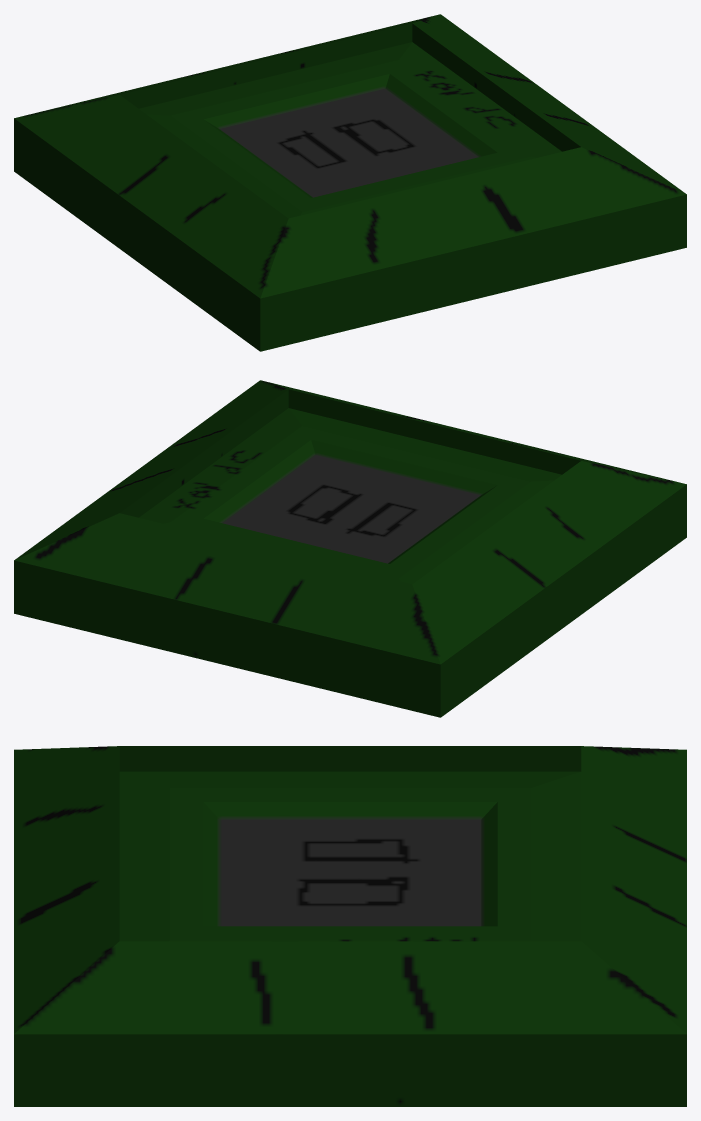
The model's file is Udoor.obj.
3 renders of one model, top to bottom at view 1: azimuth 30°, elevation 25°; view 2: azimuth 150°, elevation 25°; view 3: azimuth 270°, elevation 25°, orthographic. The views are drawn at different scales.
Visible parts, largest first — view 1: Cube; view 2: Cube; view 3: Cube.
Boxes of the visible parts, x1,y1,x2,y2 form: Cube: [14, 14, 686, 351]; Cube: [14, 380, 686, 717]; Cube: [14, 746, 686, 1106].
Bounding box in the file's own units: 4.39 × 0.8714 × 4.39.
